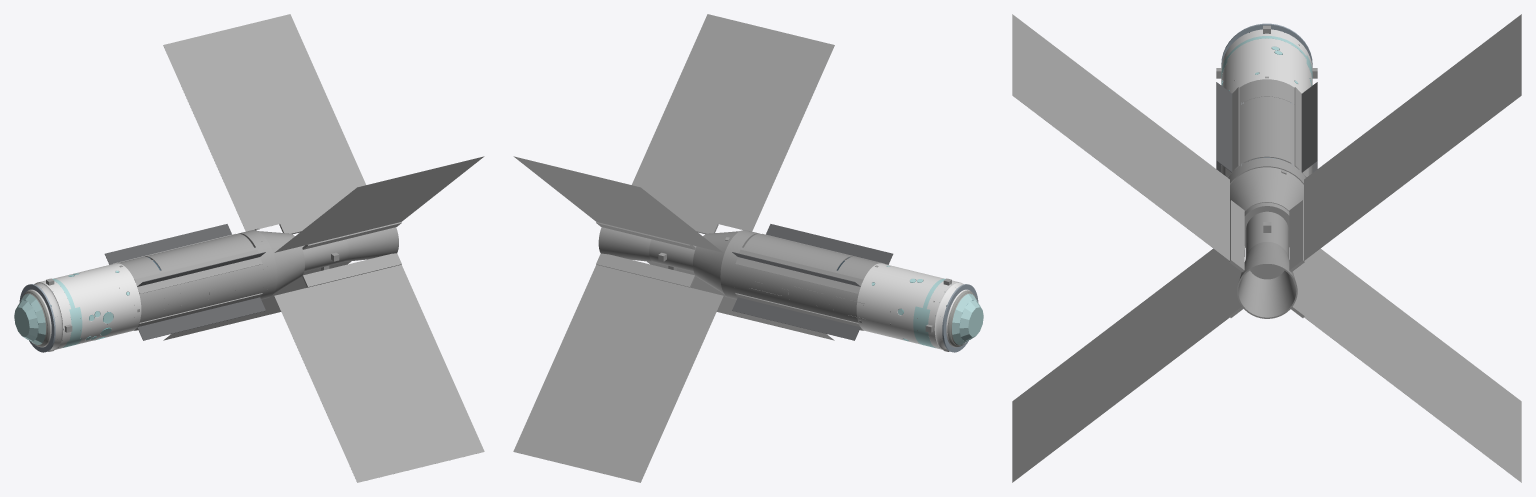
The model's file is wayfarer_shuttle_hold_fullship_88ce19fc_metric_hard_stowed.glb.
3 renders of one model, left to right at view 1: azimuth 30°, elevation 25°; view 2: azimuth 150°, elevation 25°; view 3: azimuth 270°, elevation 25°, orthographic. The views are drawn at different scales.
Visible parts, largest first — view 1: dry:hotfin_220:folded_envelope, dry:hotfin_40:folded_envelope, dry:hotfin_140:folded_envelope, dry:armor, dry:skin_midship, dry:strake_220:extended_pleat_00, dry:strake_140:stowed_stack, dry:strake_40:extended_pleat_00, dry:thrust_cone, dry:skin_service, dry:door_port, dry:hotfin_root_220:root (+7 smaller); view 2: dry:hotfin_320:folded_envelope, dry:hotfin_140:folded_envelope, dry:hotfin_40:folded_envelope, dry:armor, dry:skin_midship, dry:strake_320:extended_pleat_00, dry:strake_40:stowed_stack, dry:strake_140:extended_pleat_00, dry:skin_service, dry:thrust_cone, dry:door_starboard, dry:hotfin_root_320:root (+7 smaller); view 3: dry:hotfin_40:folded_envelope, dry:hotfin_140:folded_envelope, dry:hotfin_220:folded_envelope, dry:hotfin_320:folded_envelope, dry:armor, dry:nozzle, dry:thrust_cone, dry:reactor, dry:door_port, dry:door_starboard, dry:strake_40:extended_pleat_00, dry:strake_140:extended_pleat_00 (+9 smaller).
Boxes of the visible parts, x1,y1,x2,y2 form: dry:hotfin_220:folded_envelope: [274, 264, 484, 482]; dry:hotfin_40:folded_envelope: [163, 14, 365, 231]; dry:hotfin_140:folded_envelope: [274, 156, 484, 252]; dry:armor: [23, 263, 141, 350]; dry:skin_midship: [160, 247, 263, 316]; dry:strake_220:extended_pleat_00: [137, 297, 265, 340]; dry:strake_140:stowed_stack: [134, 249, 262, 293]; dry:strake_40:extended_pleat_00: [104, 224, 231, 264]; dry:thrust_cone: [258, 231, 304, 293]; dry:skin_service: [117, 256, 168, 330]; dry:door_port: [152, 236, 253, 270]; dry:hotfin_root_220:root: [302, 253, 401, 287]; dry:hotfin_320:folded_envelope: [513, 264, 723, 482]; dry:hotfin_140:folded_envelope: [632, 14, 834, 231]; dry:hotfin_40:folded_envelope: [513, 156, 723, 252]; dry:armor: [856, 263, 974, 350]; dry:skin_midship: [734, 247, 837, 316]; dry:strake_320:extended_pleat_00: [732, 297, 860, 340]; dry:strake_40:stowed_stack: [735, 249, 863, 293]; dry:strake_140:extended_pleat_00: [766, 224, 893, 264]; dry:skin_service: [829, 256, 880, 330]; dry:thrust_cone: [693, 231, 739, 293]; dry:door_starboard: [744, 236, 845, 270]; dry:hotfin_root_320:root: [596, 253, 695, 287]; dry:hotfin_40:folded_envelope: [1304, 14, 1521, 260]; dry:hotfin_140:folded_envelope: [1012, 14, 1229, 260]; dry:hotfin_220:folded_envelope: [1012, 248, 1229, 482]; dry:hotfin_320:folded_envelope: [1304, 248, 1521, 482]; dry:armor: [1221, 29, 1312, 93]; dry:nozzle: [1237, 242, 1297, 318]; dry:thrust_cone: [1230, 167, 1303, 247]; dry:reactor: [1245, 211, 1288, 279]; dry:door_port: [1242, 97, 1266, 163]; dry:door_starboard: [1267, 97, 1291, 163]; dry:strake_40:extended_pleat_00: [1301, 82, 1317, 172]; dry:strake_140:extended_pleat_00: [1216, 82, 1232, 172].
Bounding box in the file's own units: 54.5 × 42.11 × 50.18.
